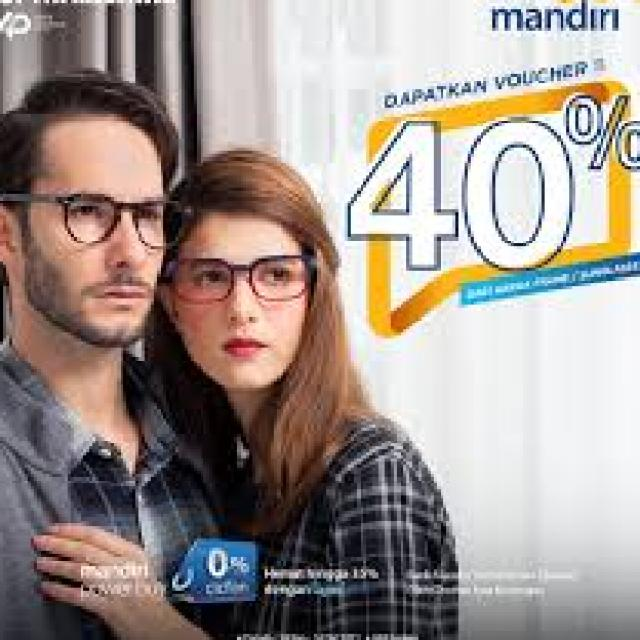Glasses: (0, 184, 191, 256), (163, 255, 326, 311)
